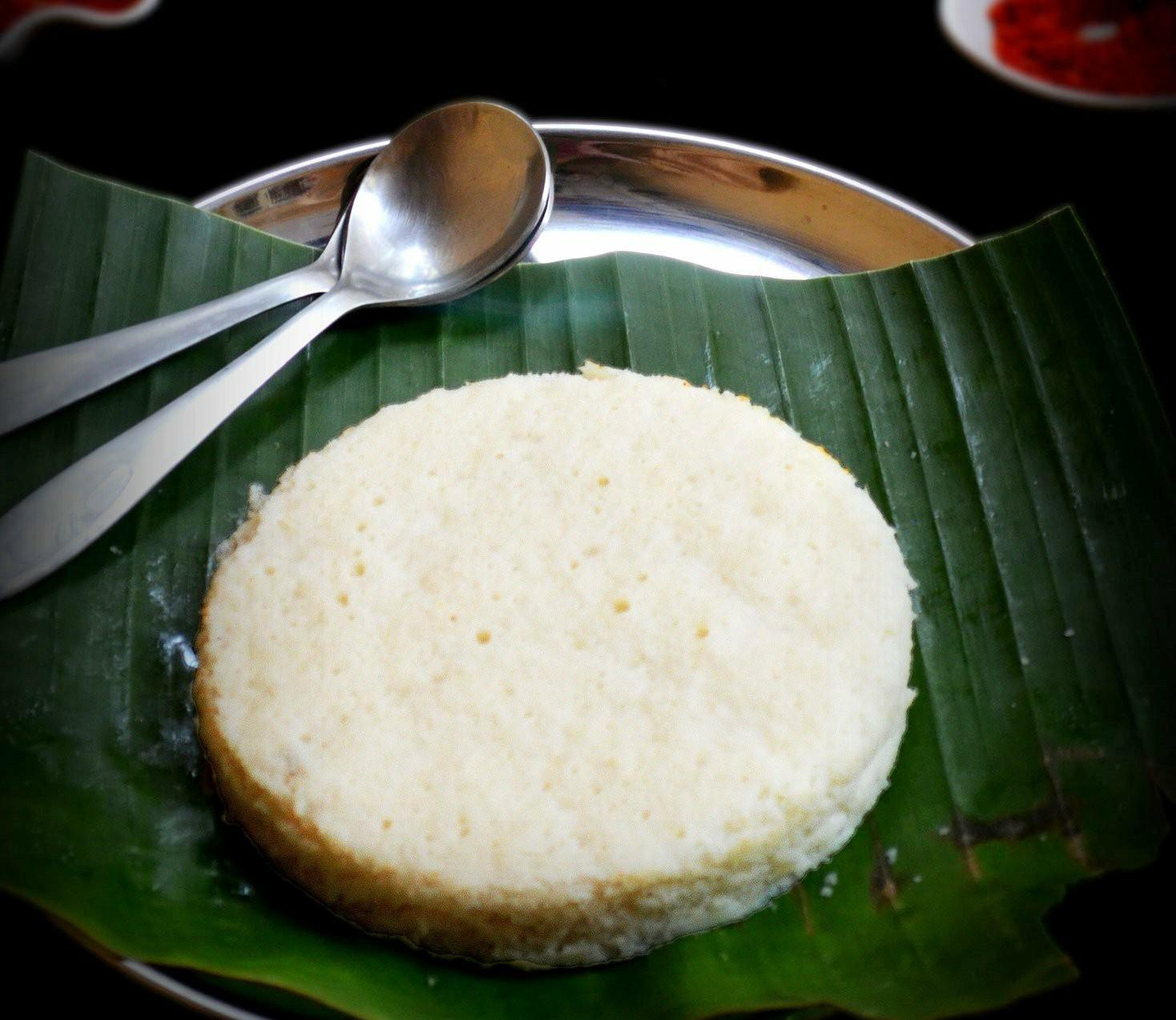Idli: (199, 362, 910, 963)
